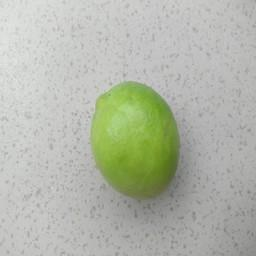Good_lime: (85, 77, 180, 200)
